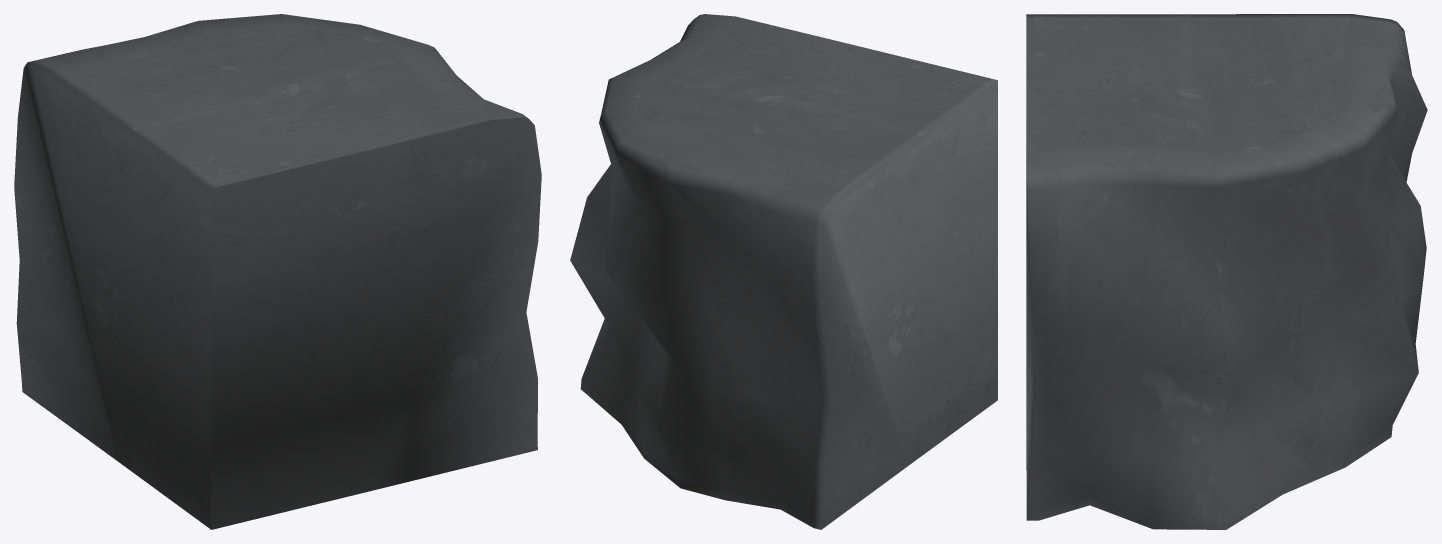
Rendered from StoneEdgeTop.fbx.
3 views of the same model, side by side, from view 1: azimuth 30°, elevation 25°; view 2: azimuth 150°, elevation 25°; view 3: azimuth 270°, elevation 25° (orthographic). The views are drawn at different scales.
Visible parts, largest first — view 1: Cube.038; view 2: Cube.038; view 3: Cube.038.
Boxes of the visible parts, x1,y1,x2,y2 form: Cube.038: [14, 14, 541, 529]; Cube.038: [570, 14, 997, 529]; Cube.038: [1026, 14, 1427, 529].
Bounding box in the file's own units: 889 × 800 × 843.
